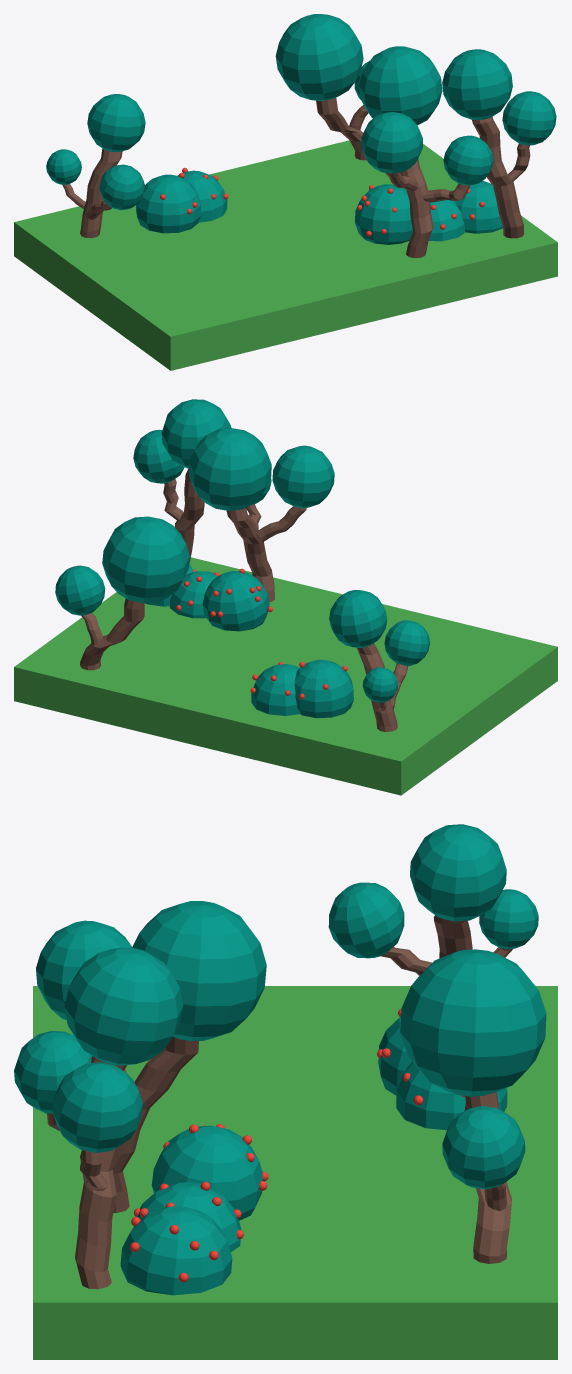
The picture shows the model from 3 angles, top to bottom: view 1: azimuth 30°, elevation 25°; view 2: azimuth 150°, elevation 25°; view 3: azimuth 270°, elevation 25°; orthographic projection. The views are drawn at different scales.
Parts seen in each view (by area): view 1: mesh_1983383666, mesh_1773236376, mesh_86384599, mesh_1130272646, mesh_498840931, mesh_1668937727, mesh_377623219, mesh_270964491, mesh_352438829, group_512105784, mesh_2131313838, group_728592931 (+9 smaller); view 2: mesh_1983383666, mesh_1773236376, mesh_86384599, mesh_377623219, mesh_498840931, mesh_1668937727, mesh_1130272646, mesh_270964491, mesh_329572199, mesh_1990557469, mesh_352438829, group_728592931 (+8 smaller); view 3: mesh_1983383666, mesh_1773236376, mesh_86384599, mesh_1130272646, mesh_1480146008, mesh_270964491, mesh_352438829, mesh_377623219, mesh_329572199, mesh_434356249, mesh_498840931, group_512105784 (+10 smaller).
Part boxes in pixels (x1,y1,x2,y2): mesh_1983383666: [14, 140, 557, 370]; mesh_1773236376: [275, 14, 363, 100]; mesh_86384599: [358, 46, 442, 125]; mesh_1130272646: [442, 49, 512, 119]; mesh_498840931: [361, 112, 422, 173]; mesh_1668937727: [136, 174, 200, 233]; mesh_377623219: [355, 184, 412, 244]; mesh_270964491: [87, 94, 145, 152]; mesh_352438829: [502, 91, 556, 145]; group_512105784: [472, 117, 524, 238]; mesh_2131313838: [443, 135, 493, 185]; group_728592931: [400, 158, 433, 258]; mesh_1983383666: [14, 557, 557, 795]; mesh_1773236376: [102, 516, 189, 603]; mesh_86384599: [188, 428, 271, 510]; mesh_377623219: [202, 571, 269, 631]; mesh_498840931: [272, 445, 334, 508]; mesh_1668937727: [294, 659, 353, 718]; mesh_1130272646: [161, 399, 231, 468]; mesh_270964491: [329, 590, 387, 647]; mesh_329572199: [55, 565, 105, 615]; mesh_1990557469: [251, 664, 299, 715]; mesh_352438829: [133, 429, 184, 483]; group_728592931: [226, 508, 274, 602]; mesh_1983383666: [33, 986, 557, 1359]; mesh_1773236376: [400, 949, 546, 1096]; mesh_86384599: [132, 901, 266, 1040]; mesh_1130272646: [64, 947, 183, 1065]; mesh_1480146008: [120, 1206, 232, 1295]; mesh_270964491: [410, 824, 506, 921]; mesh_352438829: [52, 1062, 142, 1152]; mesh_377623219: [151, 1125, 262, 1220]; mesh_329572199: [442, 1106, 525, 1189]; mesh_434356249: [328, 882, 404, 958]; mesh_498840931: [36, 920, 131, 1019]; group_512105784: [75, 1056, 126, 1289].
Size of the model in its own units: 621 by 320 by 435.
